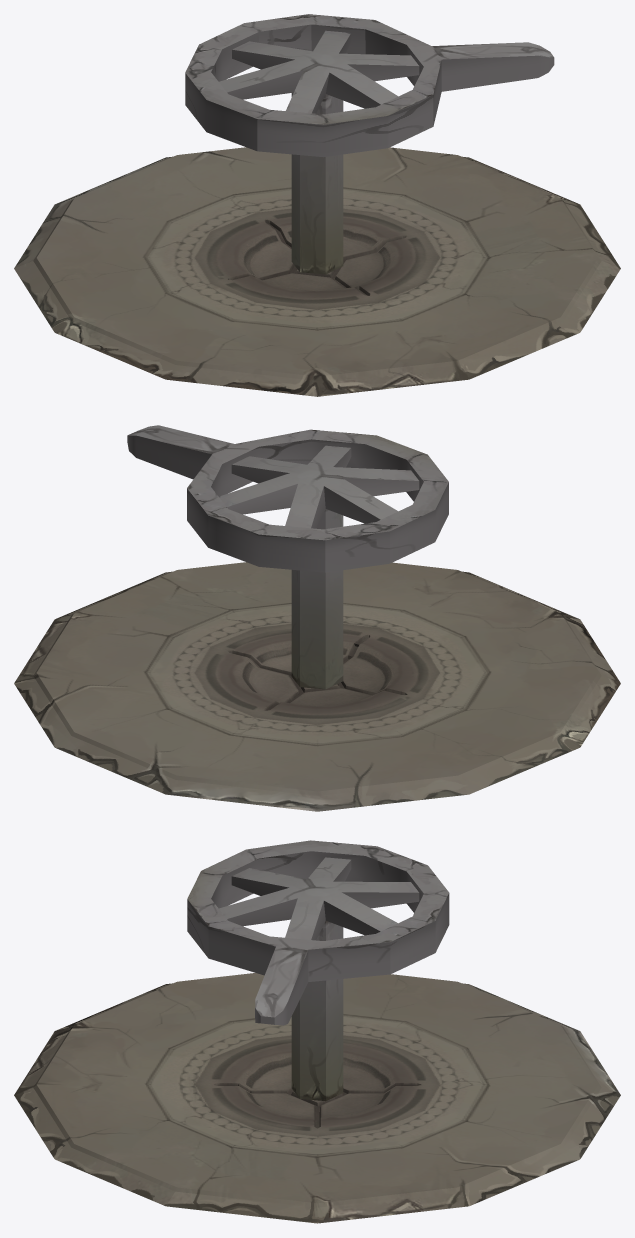
The model's file is reba_all.FBX.
The picture shows the model from 3 angles, top to bottom: view 1: azimuth 30°, elevation 25°; view 2: azimuth 150°, elevation 25°; view 3: azimuth 270°, elevation 25°; orthographic projection.
Visible parts, largest first — view 1: Cylinder001, Tube002; view 2: Cylinder001, Tube002; view 3: Cylinder001, Tube002.
Boxes of the visible parts, x1,y1,x2,y2 form: Cylinder001: [14, 147, 620, 396]; Tube002: [185, 14, 554, 274]; Cylinder001: [14, 562, 620, 811]; Tube002: [127, 425, 448, 689]; Cylinder001: [14, 973, 620, 1223]; Tube002: [187, 840, 449, 1101].
Size of the model in its own units: 111 by 41.82 by 111.
